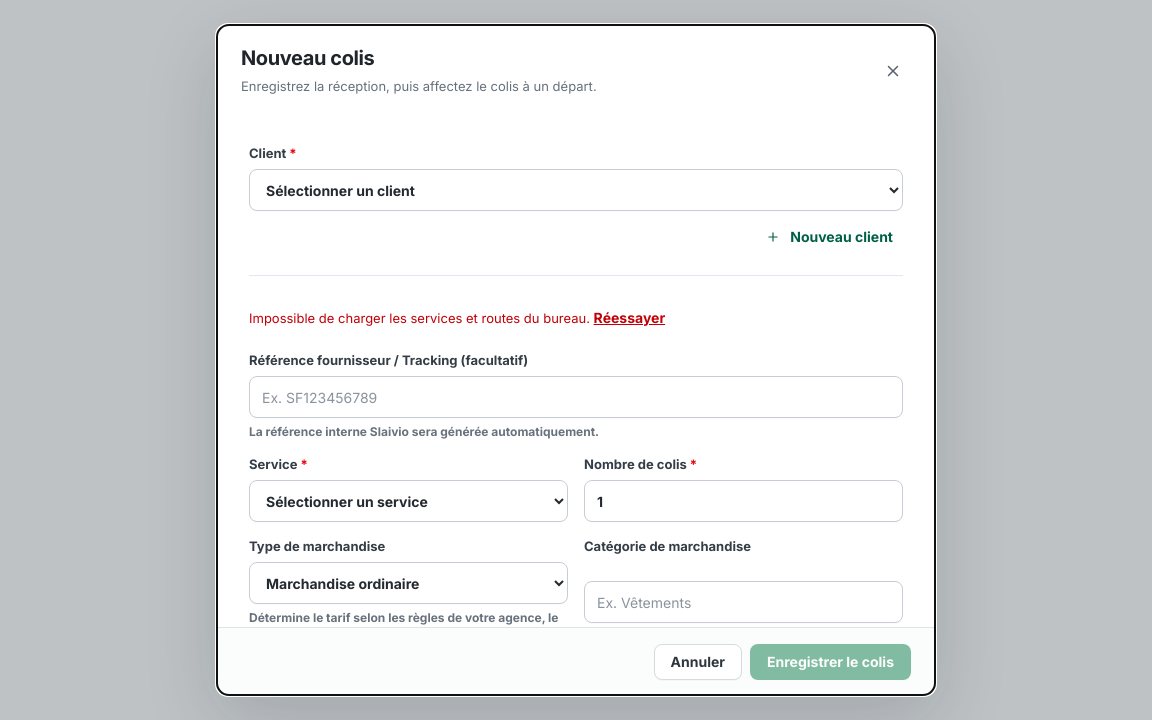
Test: Réception d’un colis fret › rend un échec du catalogue explicite et permet de réessayer
Expected: the message shows "Impossible de charger les services", [249,311,590,327]
Expected: the button "Enregistrer le colis" is disabled, [750,644,911,680]
What coordinates should you click on to do the following:
click the button "Réessayer"
I would click on:
 (629, 318)
Its box is [594,300,665,336].
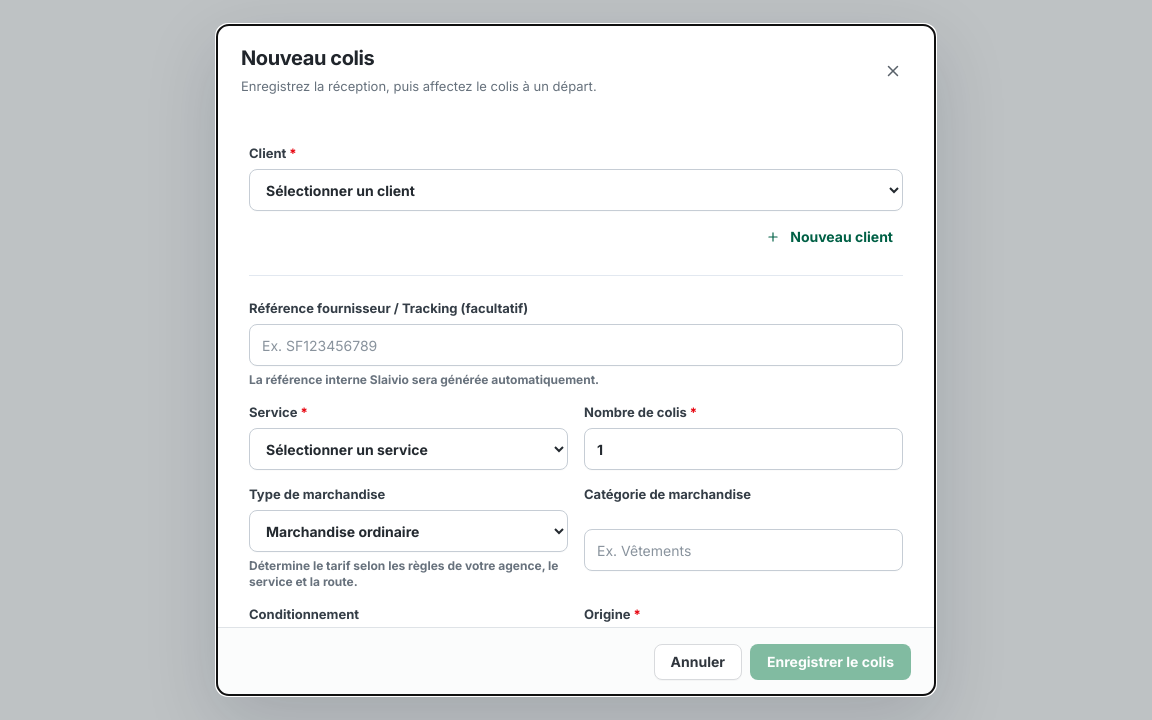
Now the message "Impossible de charger les services et routes du bureau. Réessayer" is gone
